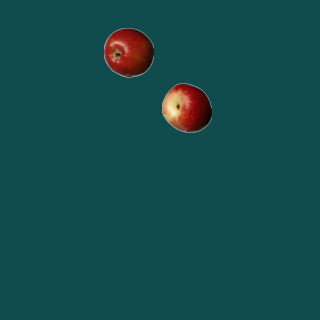Apple Braeburn: (103, 27, 153, 77)
Nectarine: (161, 82, 211, 132)
